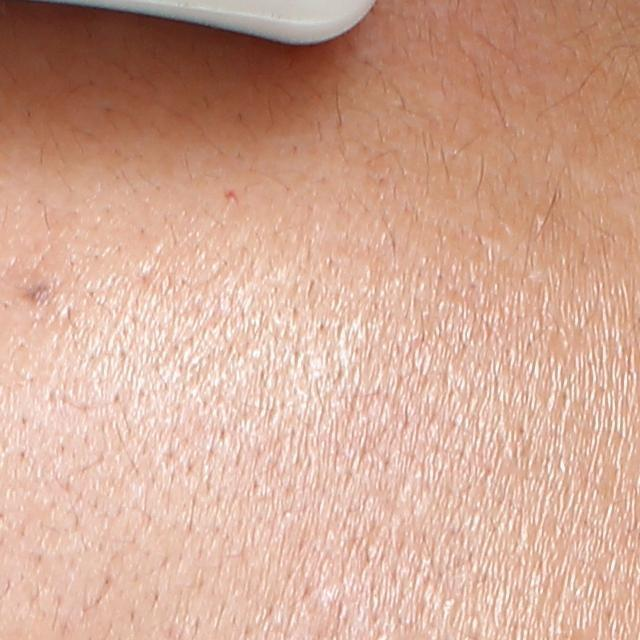nevus: (21, 275, 56, 309)
